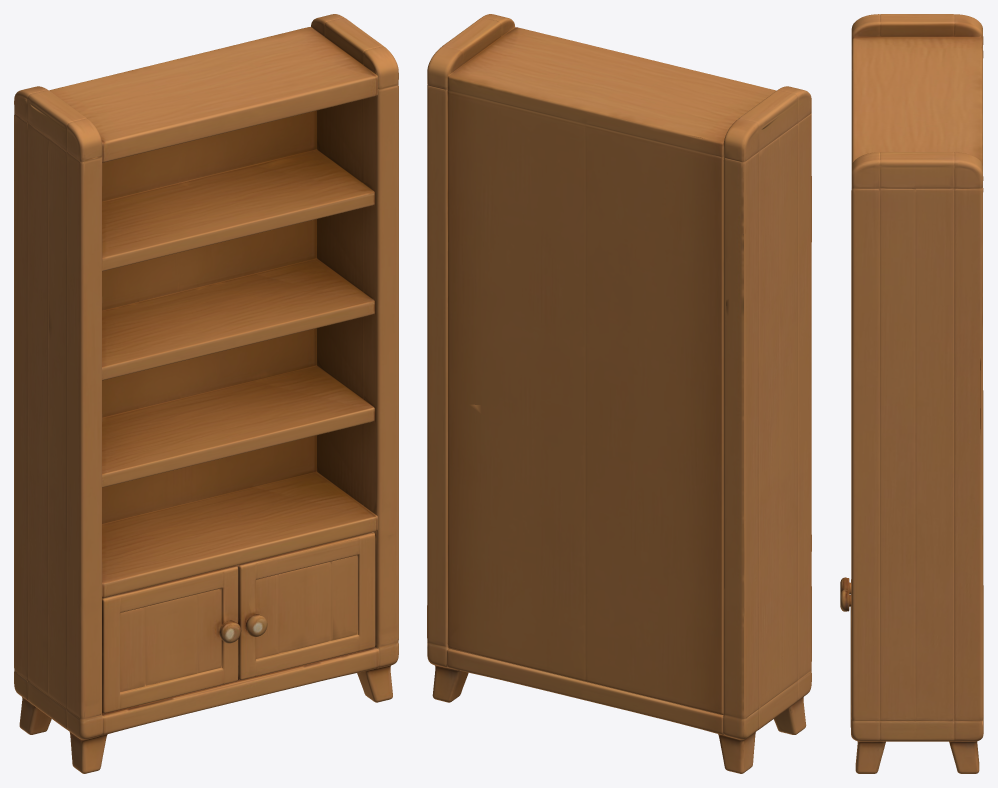
Rendered from cabinet.glb.
The picture shows the model from 3 angles, left to right: view 1: azimuth 30°, elevation 25°; view 2: azimuth 150°, elevation 25°; view 3: azimuth 270°, elevation 25°; orthographic projection. The views are drawn at different scales.
Visible parts, largest first — view 1: node_0; view 2: node_0; view 3: node_0.
Boxes of the visible parts, bbox=[...] form: node_0: bbox=[14, 14, 398, 773]; node_0: bbox=[427, 14, 811, 773]; node_0: bbox=[840, 14, 983, 773].
Size of the model in its own units: 0.5487 by 1.06 by 0.2238.
Materials: 1 (1 with a texture image).
